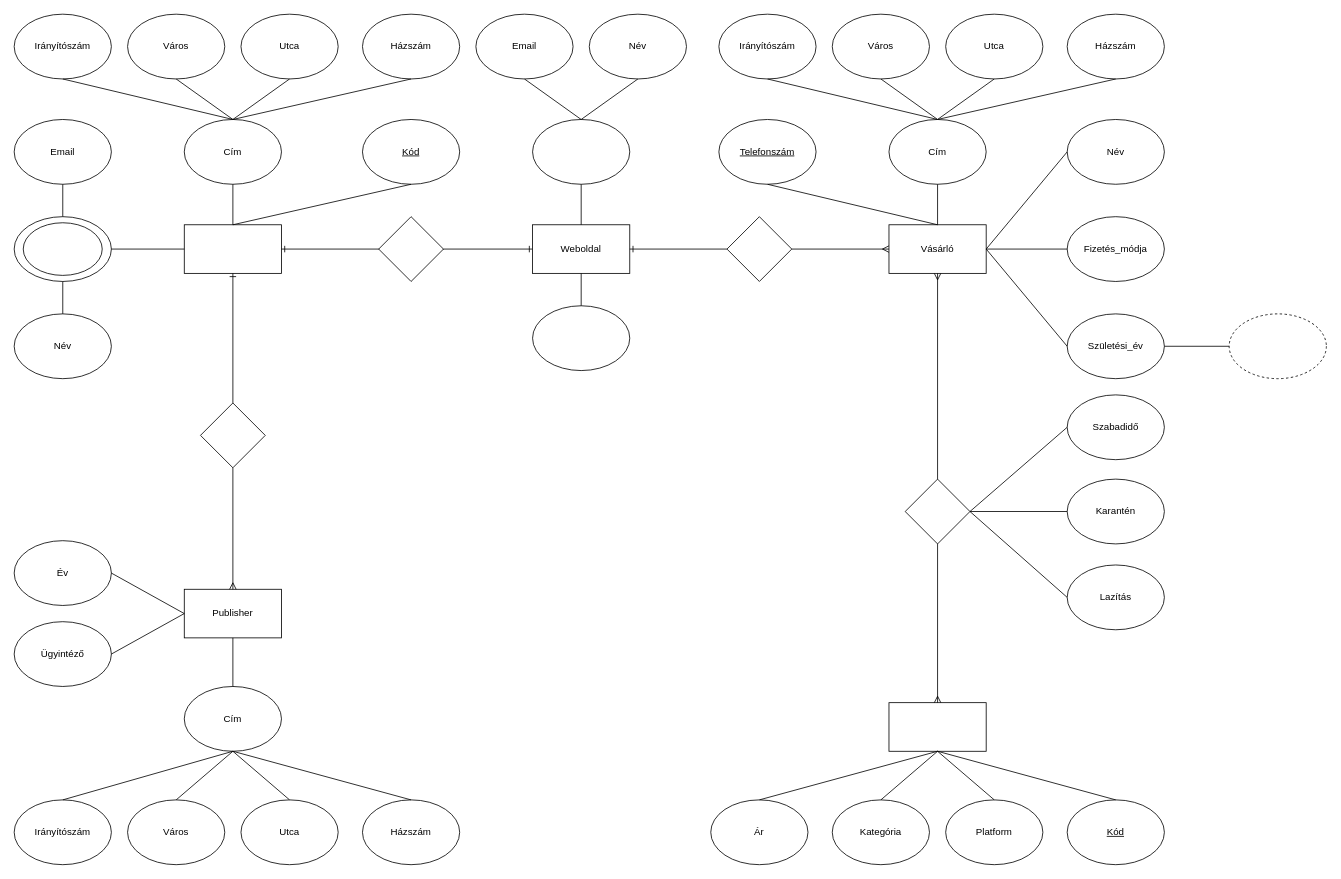
Image size: 1341x879. Some labels were removed from this diagram. The shapes that lost their labels are listed below. From the top down, each one's box as (x1, y1, x2, y2) in pixels, then its label:
(532, 119, 630, 184): Karbantartó
(22, 222, 102, 275): Alkalmazottak
(183, 224, 281, 273): Forgalmazó
(378, 216, 443, 281): F-W
(726, 216, 792, 281): Rendelés
(532, 305, 630, 371): Link
(1228, 313, 1326, 379): Kor
(200, 402, 265, 468): Vásárlás
(904, 478, 970, 544): Indok
(888, 702, 986, 751): Játék
